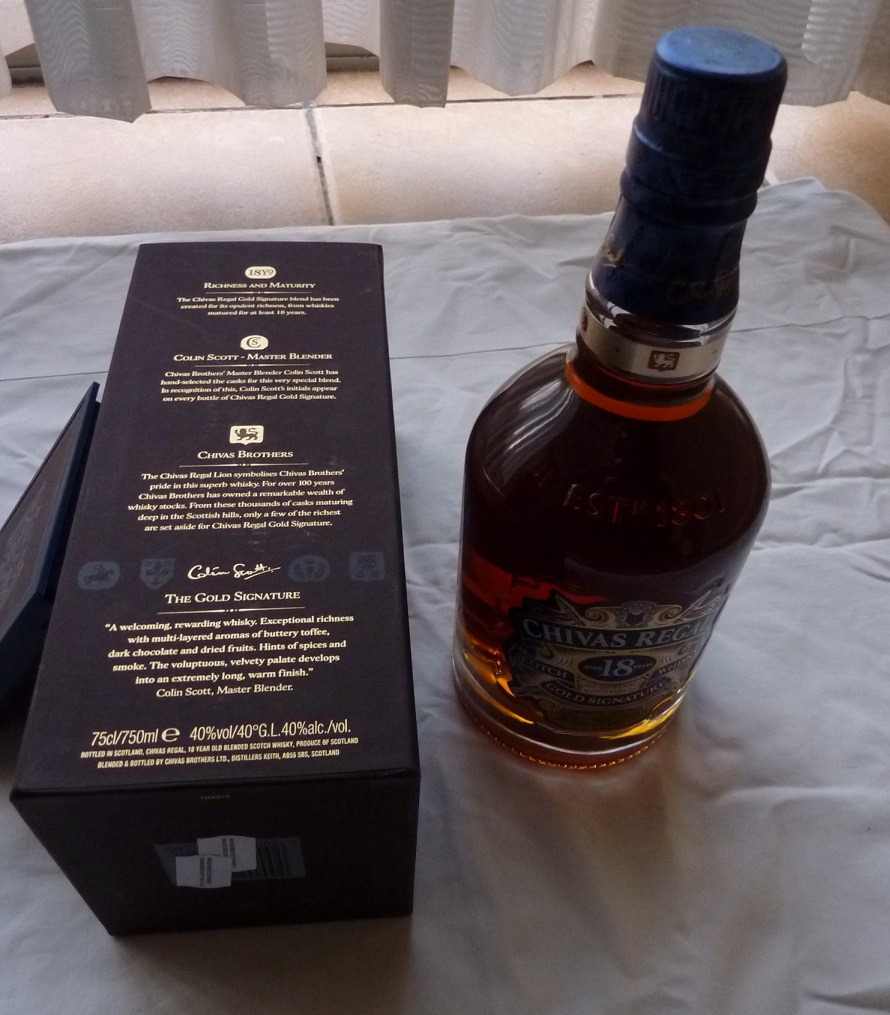Chivas Regal: (444, 17, 791, 787)
